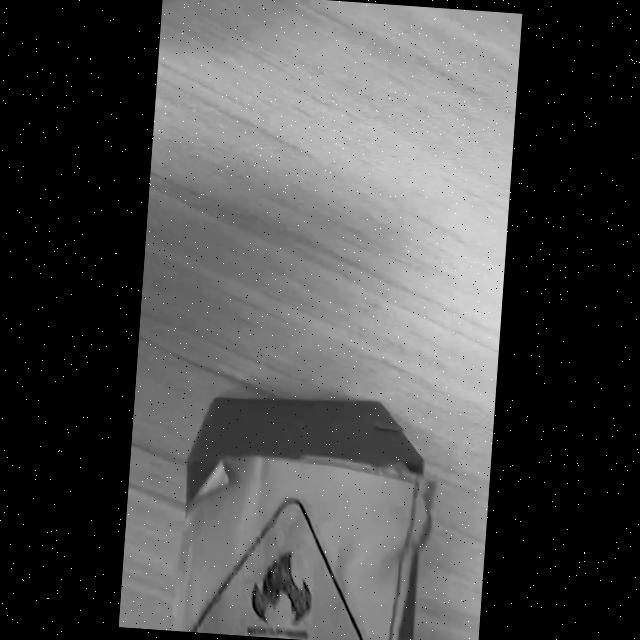Fire: (187, 497, 364, 640)
